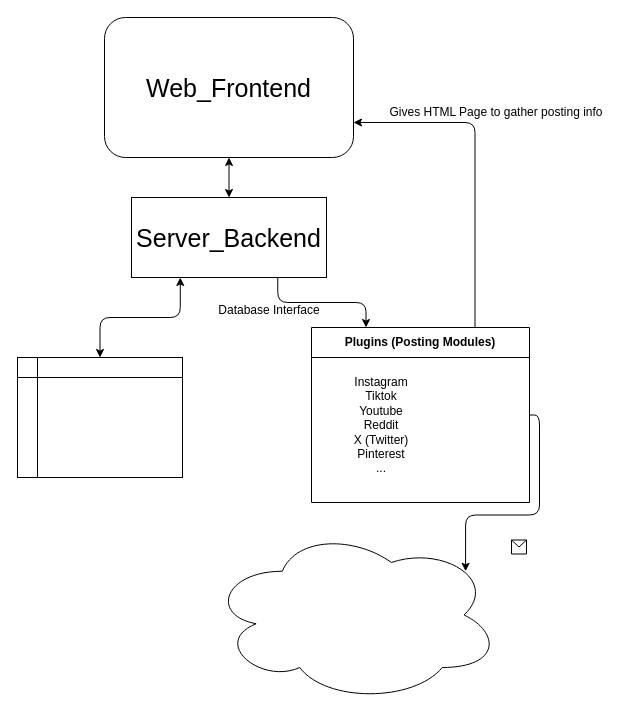
The diagram is 634 pixels wide and 720 high, and some of its shapes have lost their labels. The centre of each missing label's shape, as x and y in pixels:
"External APIs" goes at pixel 354 614.
"Some Kind of Database" goes at pixel 99 417.
